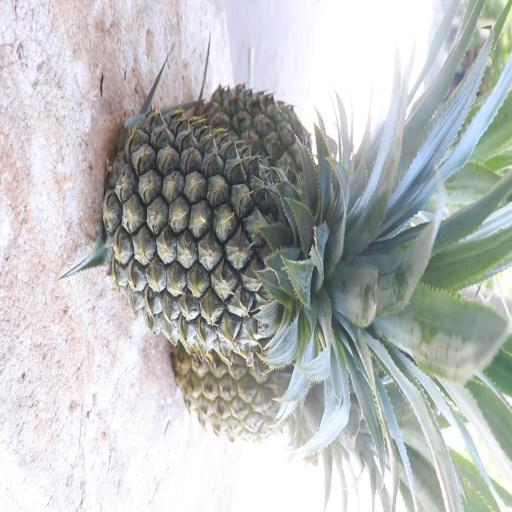------------------------------: (176, 328, 457, 484)
